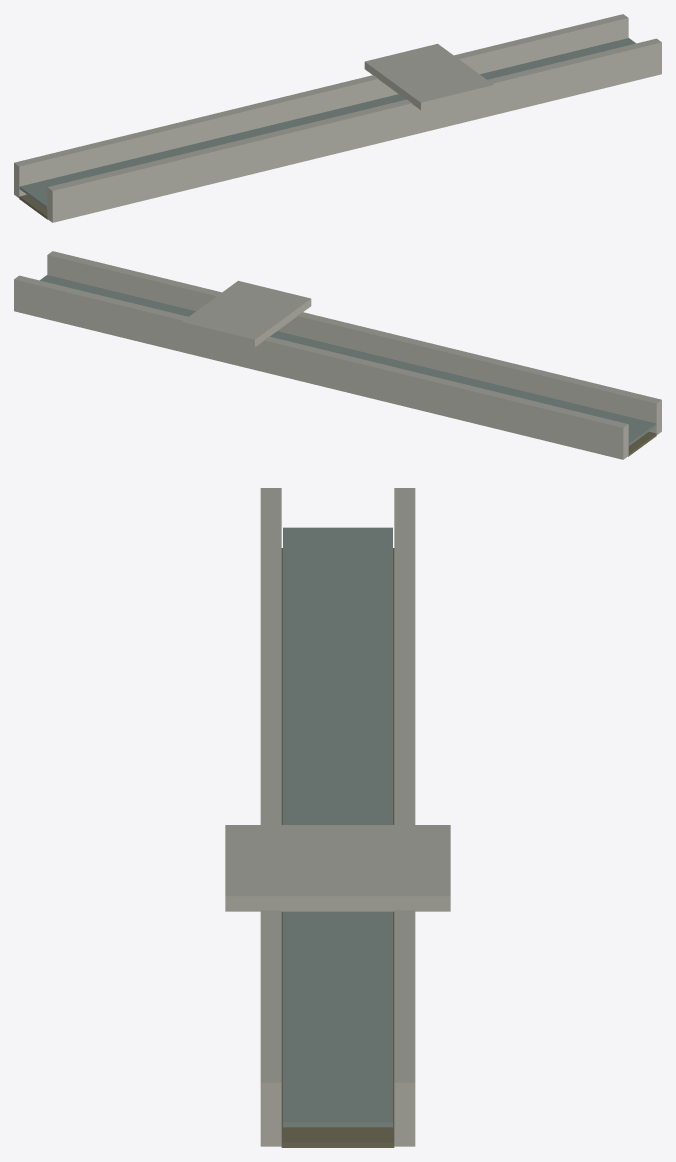
File: SM_Acequia_v3_Pasarela_LOD0.fbx
3 renders of one model, top to bottom at view 1: azimuth 30°, elevation 25°; view 2: azimuth 150°, elevation 25°; view 3: azimuth 270°, elevation 25°, orthographic. The views are drawn at different scales.
Visible parts, largest first — view 1: SM_huerta_nules_v18_LOD0; view 2: SM_huerta_nules_v18_LOD0; view 3: SM_huerta_nules_v18_LOD0.
Part boxes in pixels (x1,y1,x2,y2): SM_huerta_nules_v18_LOD0: [14, 14, 661, 222]; SM_huerta_nules_v18_LOD0: [14, 251, 661, 459]; SM_huerta_nules_v18_LOD0: [225, 488, 450, 1147].
Bounding box in the file's own units: 10 × 0.62 × 1.6.
